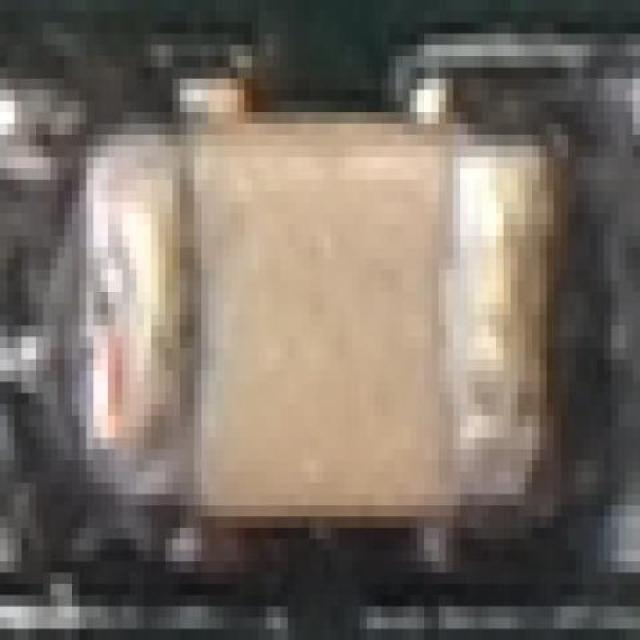Capacitor: (78, 98, 561, 532)
